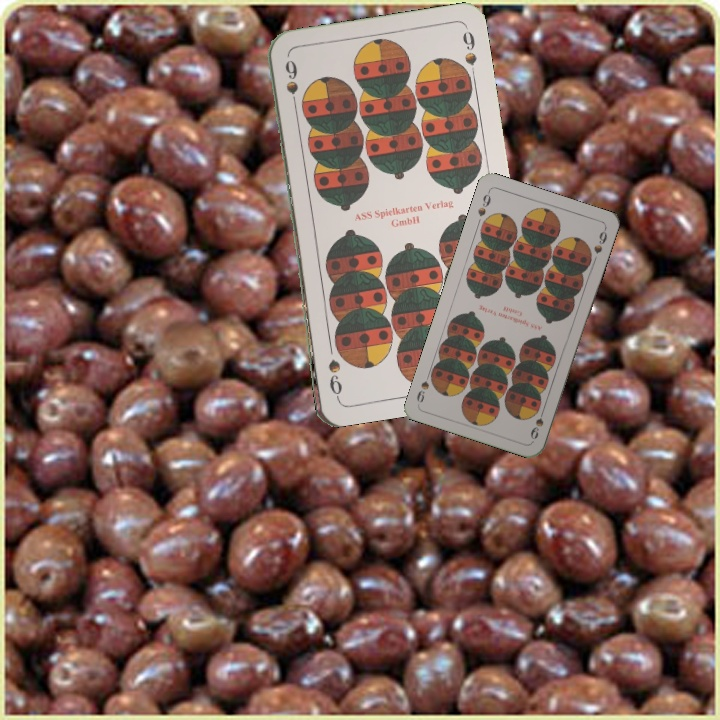S9: (281, 55, 300, 114), (526, 403, 548, 442), (474, 187, 493, 219)
